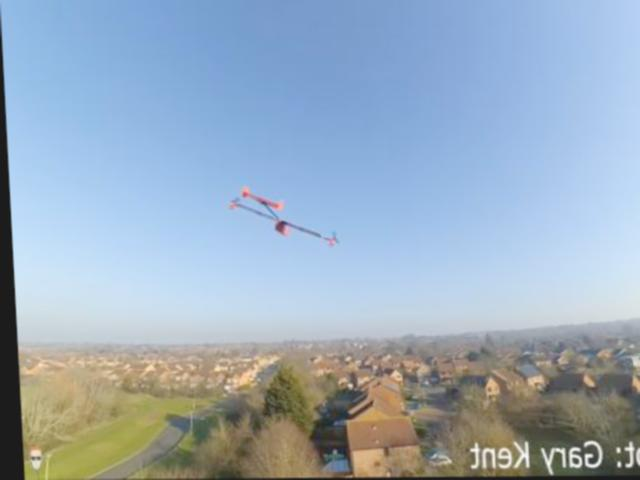uav: (223, 182, 343, 262)
